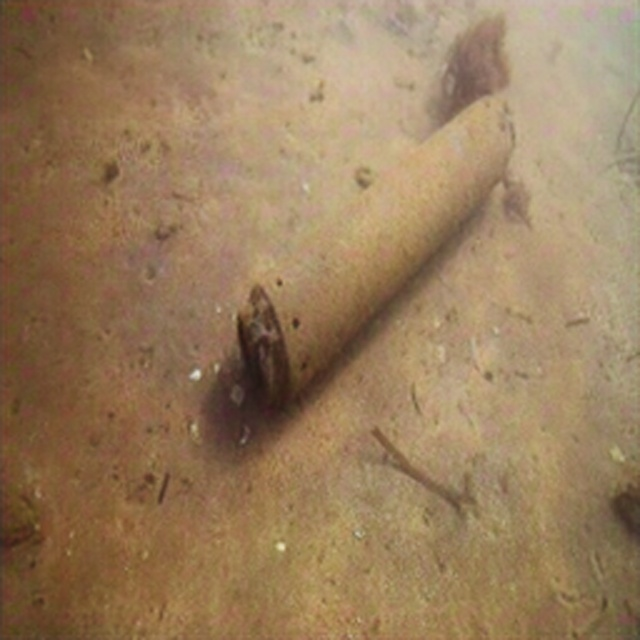mine: (236, 92, 514, 402)
